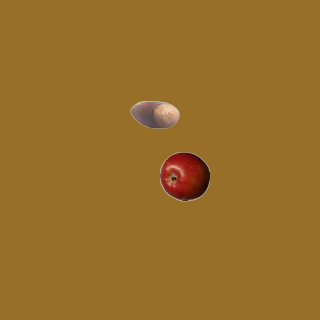Apple Braeburn: (159, 151, 209, 201)
Hazelnut: (129, 89, 179, 139)
